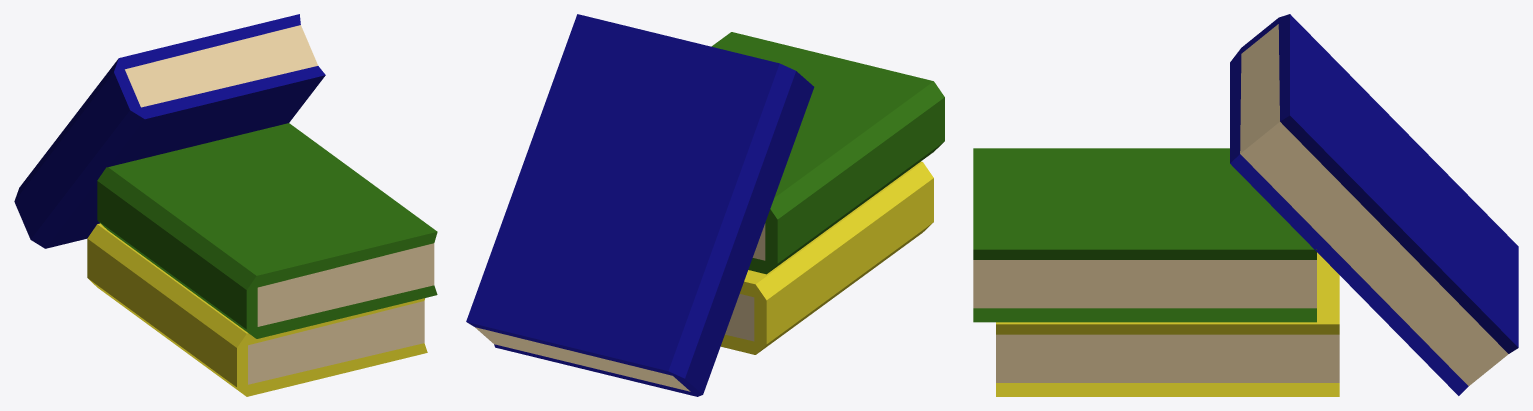
File: book 3.fbx
The picture shows the model from 3 angles, left to right: view 1: azimuth 30°, elevation 25°; view 2: azimuth 150°, elevation 25°; view 3: azimuth 270°, elevation 25°; orthographic projection. The views are drawn at different scales.
Visible parts, largest first — view 1: pCube43; view 2: pCube43; view 3: pCube43.
Boxes of the visible parts, <box> form: pCube43: <box>14,14,437,396</box>; pCube43: <box>466,14,944,396</box>; pCube43: <box>973,14,1518,396</box>.
Size of the model in its own units: 5.06 by 6.21 by 10.9.
